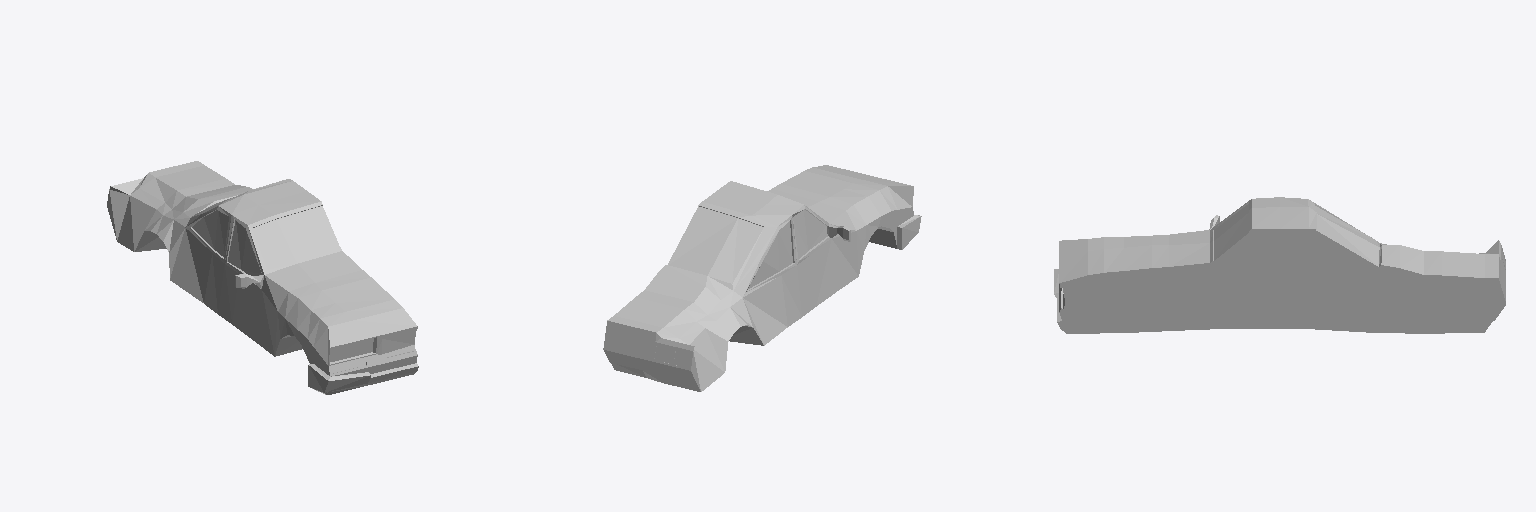
Rendered from right_car_mesh.obj.
3 views of the same model, side by side, from view 1: azimuth 30°, elevation 25°; view 2: azimuth 150°, elevation 25°; view 3: azimuth 270°, elevation 25° (orthographic).
Visible parts, largest first — view 1: right_car_half_Plane.003; view 2: right_car_half_Plane.003; view 3: right_car_half_Plane.003.
Boxes of the visible parts, box(x1,y1,x2,y2) form: right_car_half_Plane.003: box(107, 161, 418, 394); right_car_half_Plane.003: box(603, 165, 921, 391); right_car_half_Plane.003: box(1054, 197, 1505, 333).
Size of the model in its own units: 1.02 by 0.9931 by 3.89.